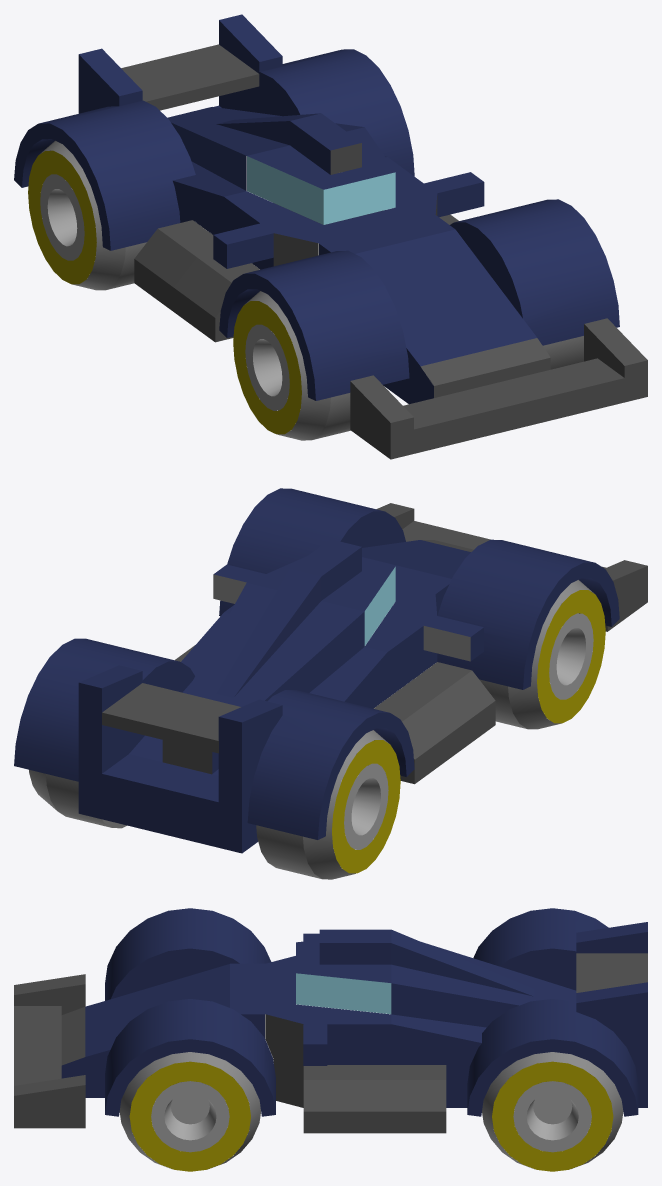
The model's file is race-futrure.glb.
3 views of the same model, one above another, from view 1: azimuth 30°, elevation 25°; view 2: azimuth 150°, elevation 25°; view 3: azimuth 270°, elevation 25° (orthographic). The views are drawn at different scales.
Parts seen in each view (by area): view 1: body.006, wheel_frontRight.006, wheel_backRight.006, wheel_frontLeft.006; view 2: body.006, wheel_backRight.006, wheel_frontRight.006, wheel_backLeft.006; view 3: body.006, wheel_backLeft.006, wheel_frontLeft.006.
Boxes of the visible parts, x1,y1,x2,y2 form: body.006: [14, 14, 647, 459]; wheel_frontRight.006: [233, 291, 350, 440]; wheel_backRight.006: [28, 140, 146, 290]; wheel_frontLeft.006: [543, 336, 583, 369]; body.006: [14, 488, 647, 853]; wheel_backRight.006: [256, 730, 400, 879]; wheel_frontRight.006: [479, 580, 605, 729]; wheel_backLeft.006: [29, 770, 126, 828]; body.006: [14, 908, 647, 1133]; wheel_backLeft.006: [482, 1052, 623, 1171]; wheel_frontLeft.006: [119, 1052, 260, 1171].
Size of the model in its own units: 1.3 by 0.8328 by 2.66.
